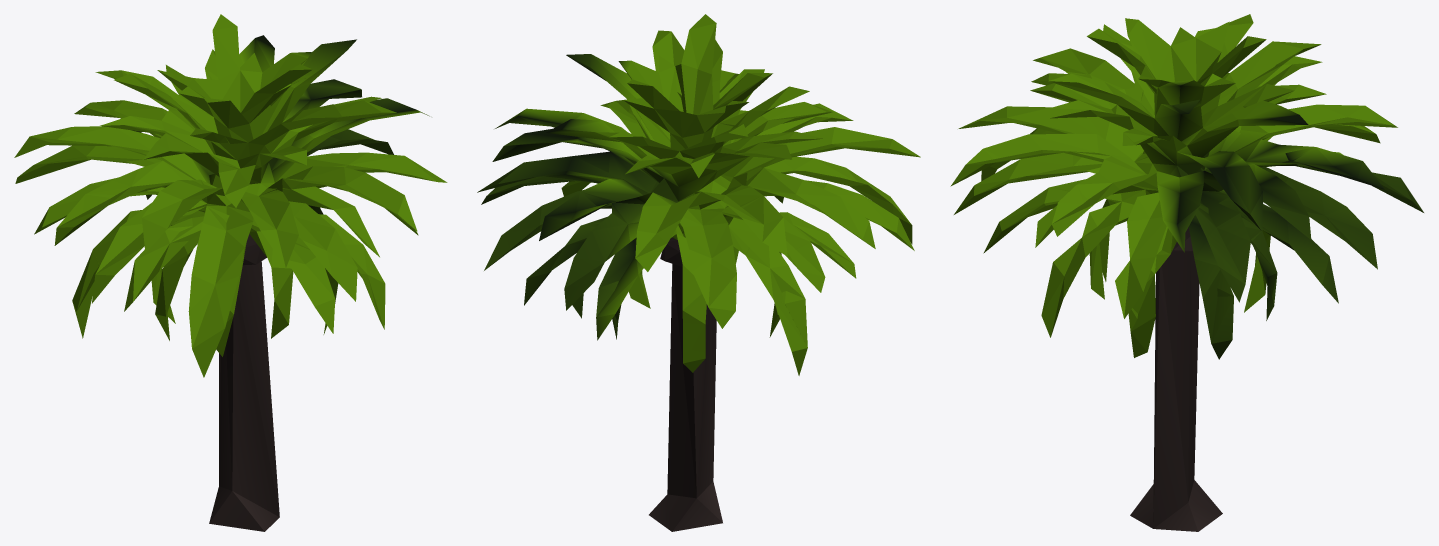
File: short-palm.glb
3 renders of one model, left to right at view 1: azimuth 30°, elevation 25°; view 2: azimuth 150°, elevation 25°; view 3: azimuth 270°, elevation 25°, orthographic. The views are drawn at different scales.
Parts seen in each view (by area): view 1: PaperTrees.041; view 2: PaperTrees.041; view 3: PaperTrees.041.
Boxes of the visible parts, x1=… form: PaperTrees.041: x1=14, y1=14, x2=447, y2=531; PaperTrees.041: x1=477, y1=14, x2=920, y2=531; PaperTrees.041: x1=950, y1=14, x2=1423, y2=531.
Size of the model in its own units: 13.03 by 15.2 by 13.25.
